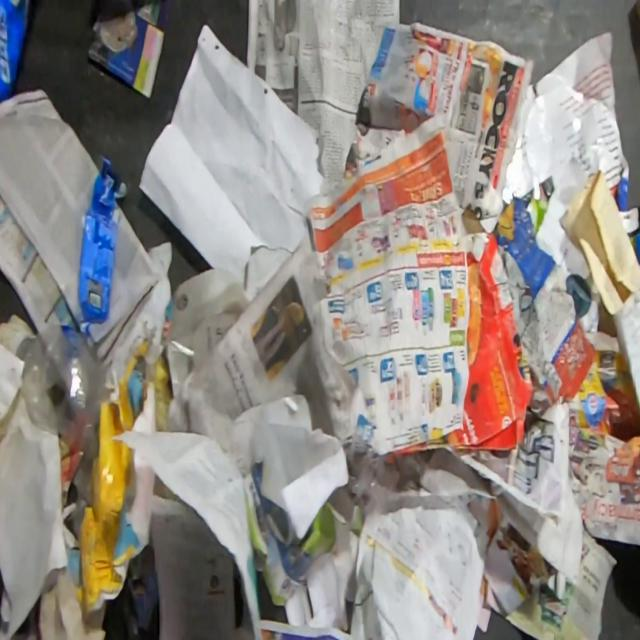cardboard: (379, 231, 534, 466), (66, 338, 156, 622), (493, 188, 599, 406), (242, 454, 369, 608)
rigid_plastic: (16, 154, 128, 540)
soft_plastic: (0, 0, 31, 101)
